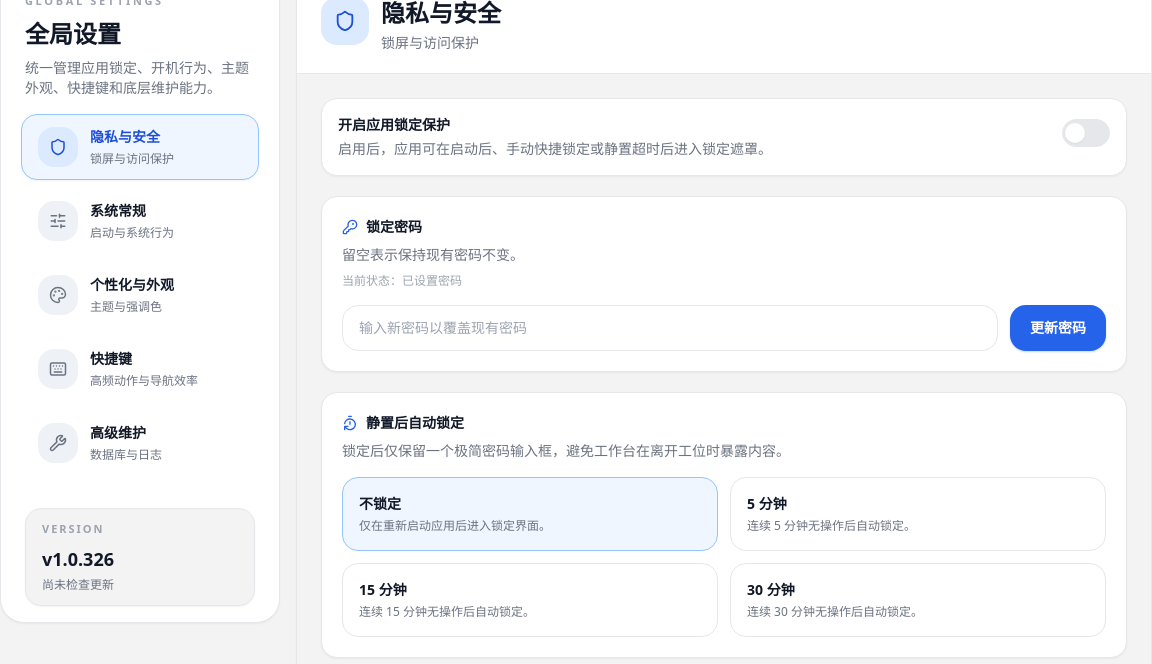
Test: shows a toast instead of saving when a recorded shortcut conflicts
Click the button "快捷键 高频动作与导航效率" at (140, 368), box [21,336,259,402]
(page scrolled)
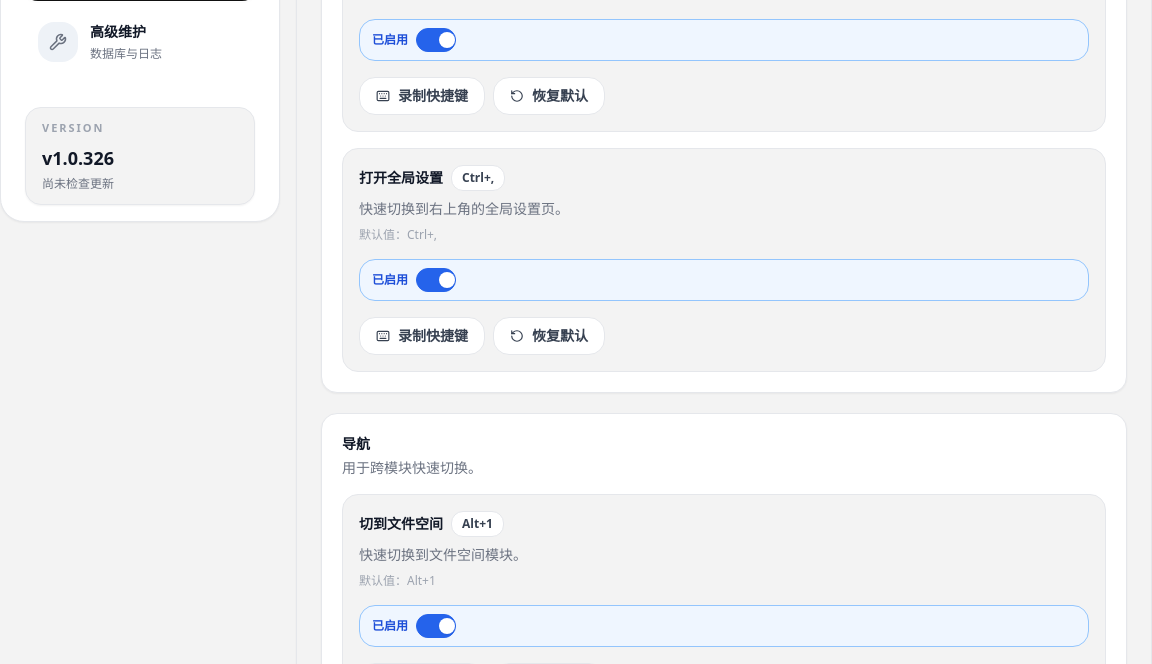
Click the button with aria-label "打开全局设置 录制快捷键" at (422, 336), box [359,317,485,355]
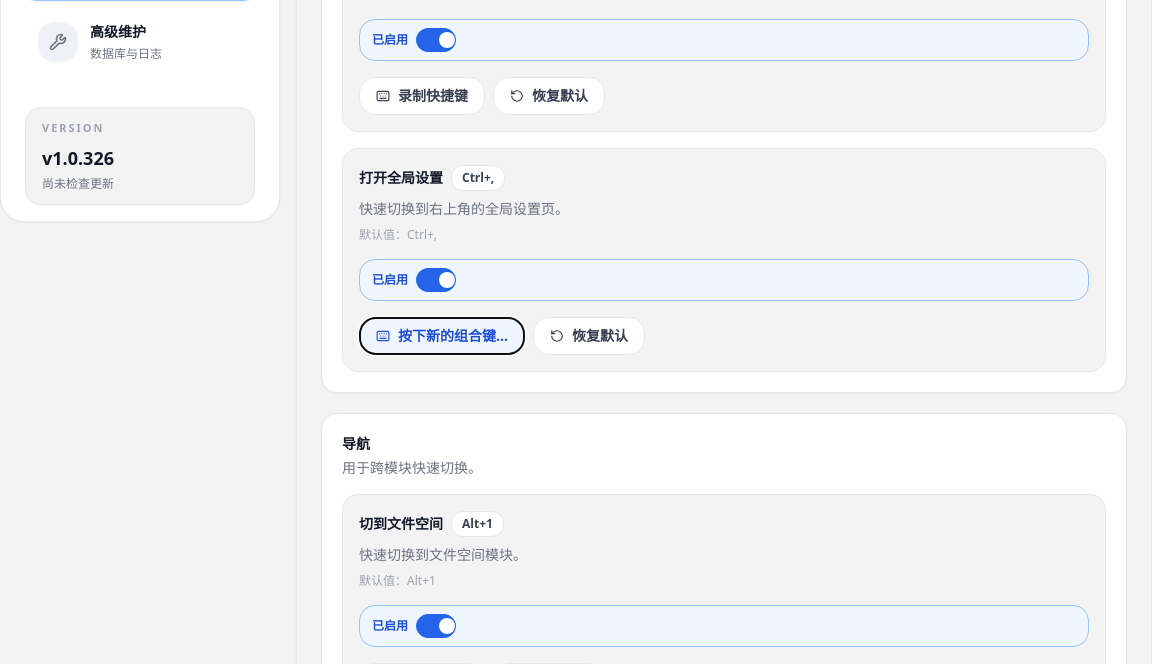
Press l
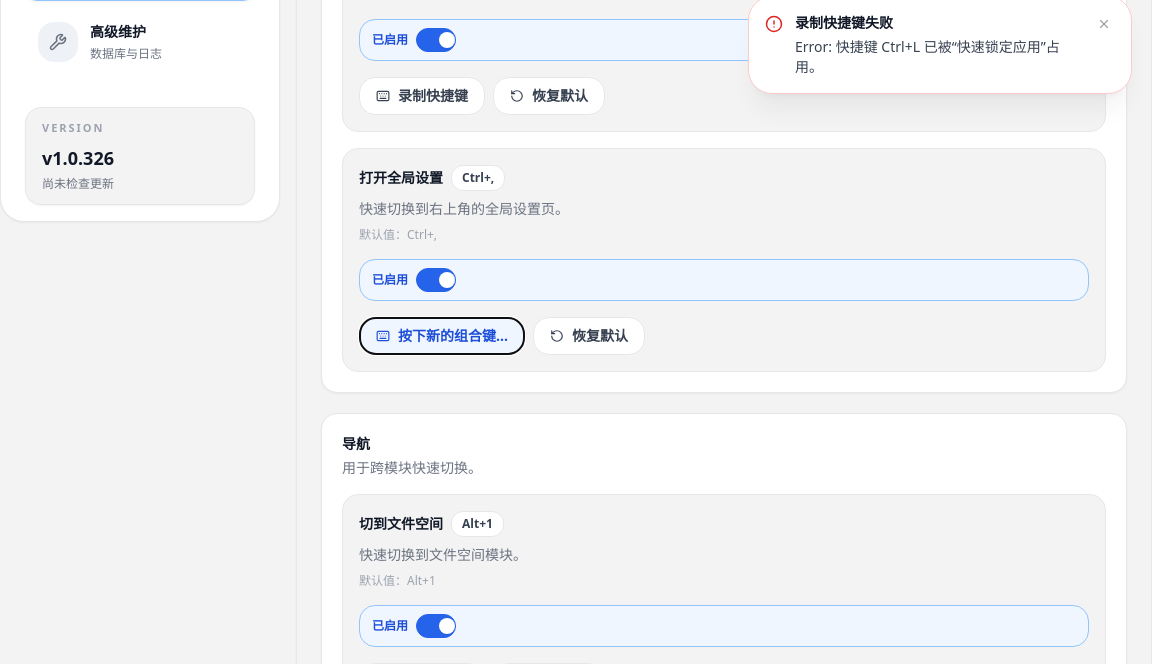
Check: the text "Error: 快捷键 Ctrl+L 已被“快速锁定应用”占用。" is shown, box [795,37,1081,77]
